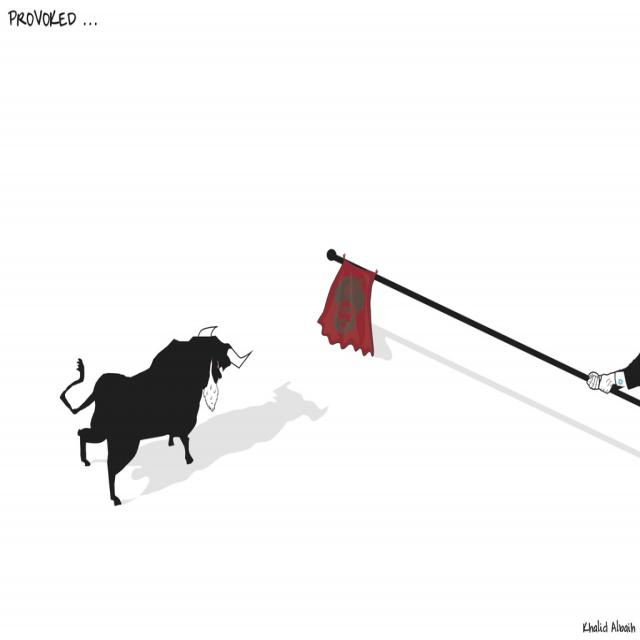Bull: (58, 318, 257, 522)
